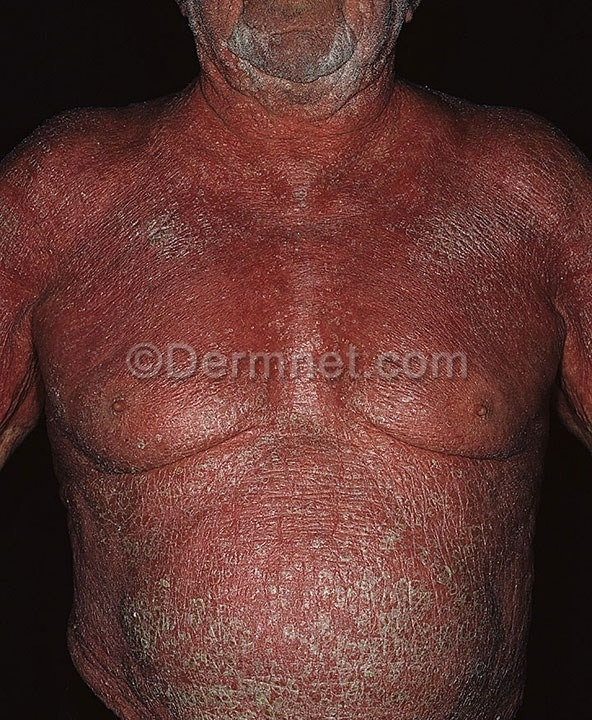Psoriasis: (120, 470, 518, 720), (115, 319, 440, 468), (380, 148, 592, 332), (74, 162, 276, 293), (196, 25, 403, 124)
